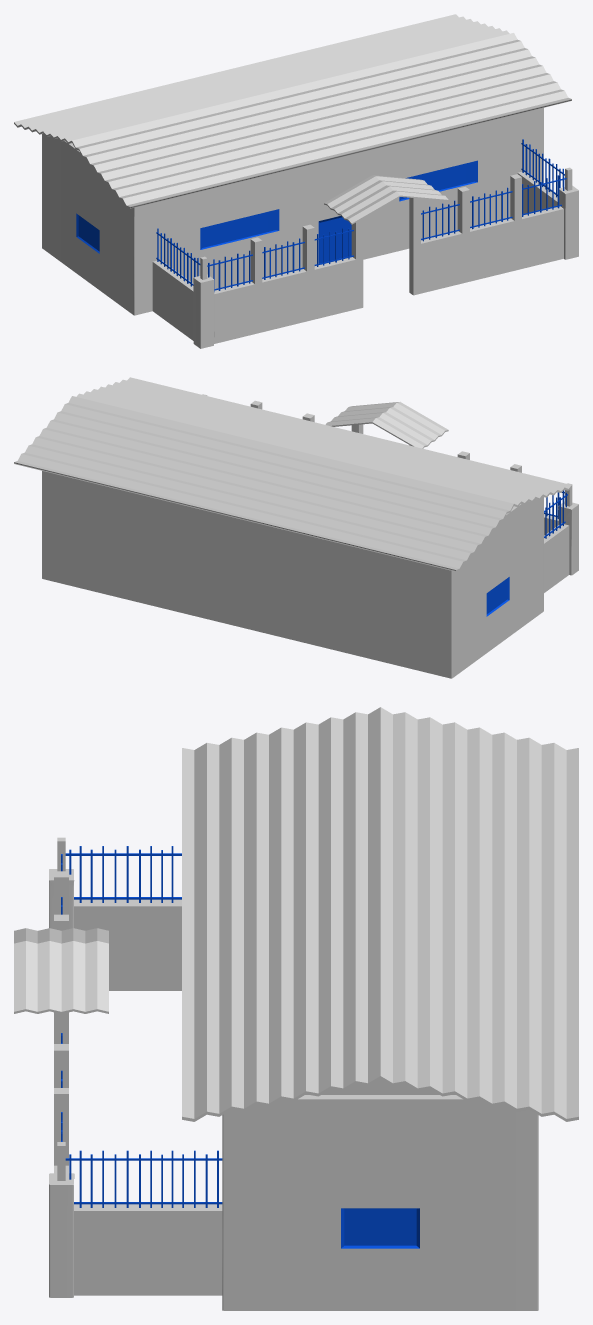
Rendered from Orphanage.fbx.
The picture shows the model from 3 angles, top to bottom: view 1: azimuth 30°, elevation 25°; view 2: azimuth 150°, elevation 25°; view 3: azimuth 270°, elevation 25°; orthographic projection. The views are drawn at different scales.
Parts seen in each view (by area): view 1: Main, Roof, Bars; view 2: Main, Roof, Bars; view 3: Roof, Main, Bars.
Part boxes in pixels (x1,y1,x2,y2): Main: [42, 107, 578, 348]; Roof: [14, 14, 571, 224]; Bars: [156, 139, 566, 291]; Main: [42, 394, 578, 678]; Roof: [14, 377, 571, 571]; Bars: [544, 490, 567, 538]; Roof: [14, 707, 578, 1121]; Main: [49, 837, 538, 1310]; Bars: [61, 846, 222, 1207].
Size of the model in its own units: 2339 by 734 by 1514.
